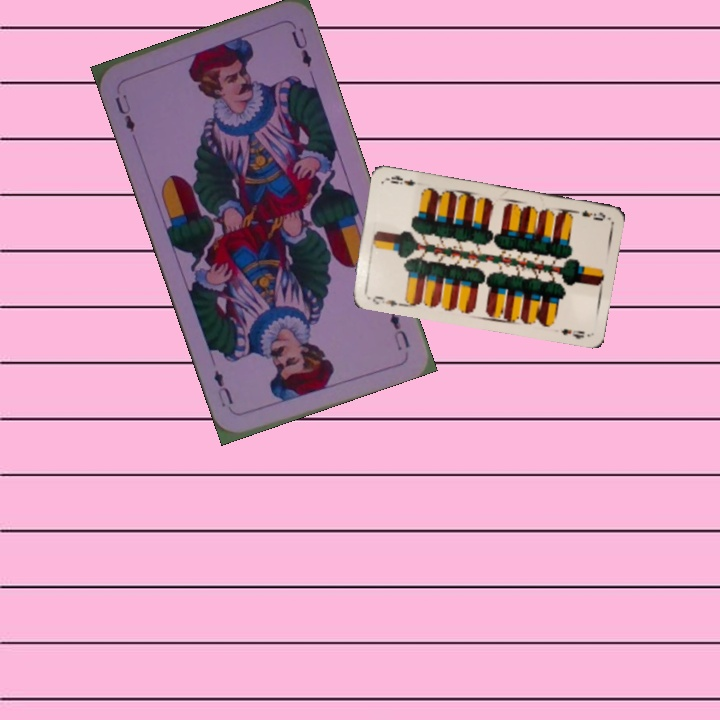E9: (570, 206, 608, 223), (368, 292, 404, 309)
EU: (111, 90, 138, 135), (385, 308, 412, 353)
